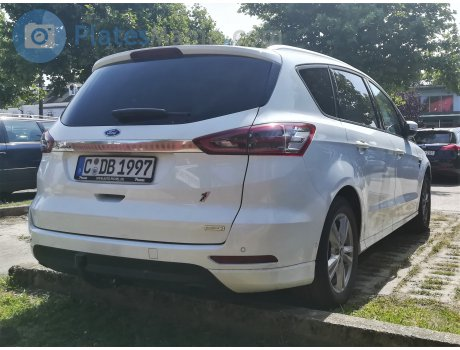License Plates: (81, 157, 154, 175)
